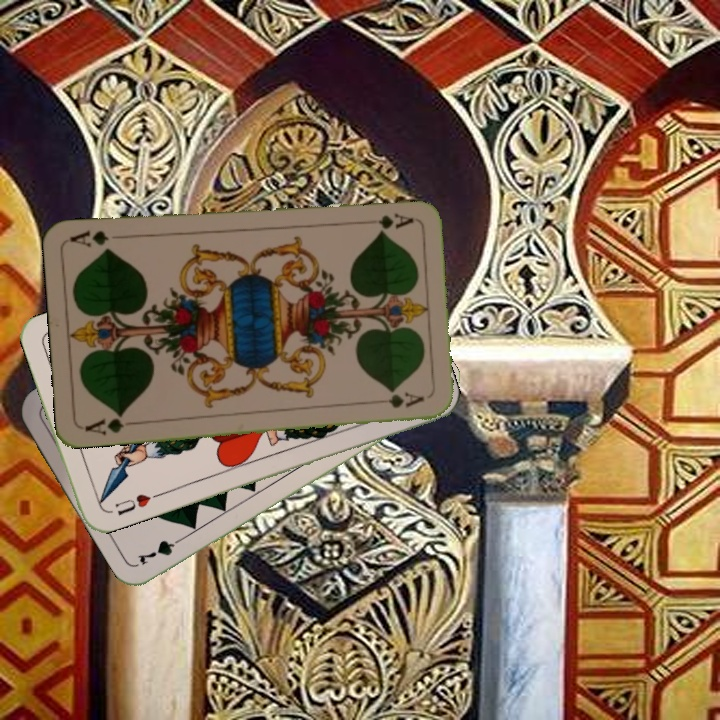G7: (133, 531, 190, 568)
GA: (80, 409, 139, 438), (357, 208, 416, 231)
HU: (111, 489, 153, 519)
